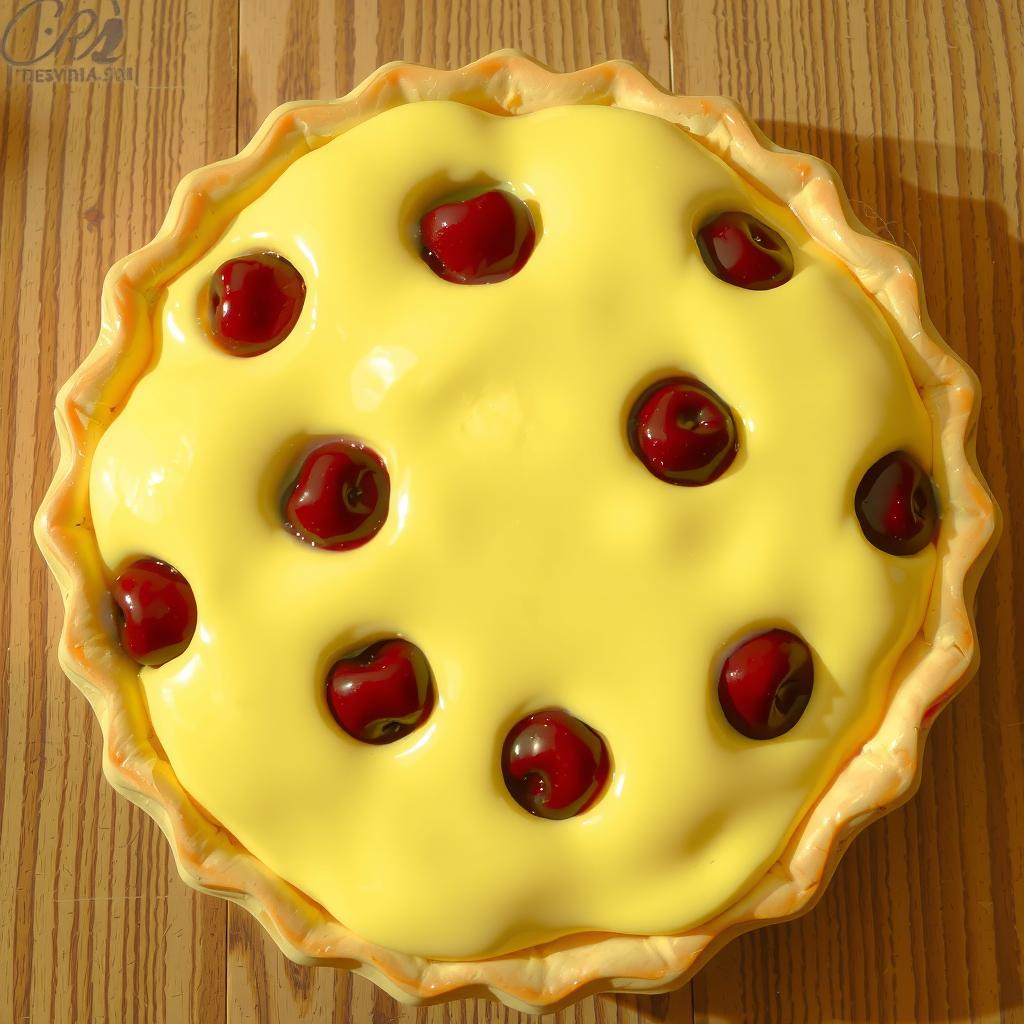pie: (33, 46, 1007, 1024)
